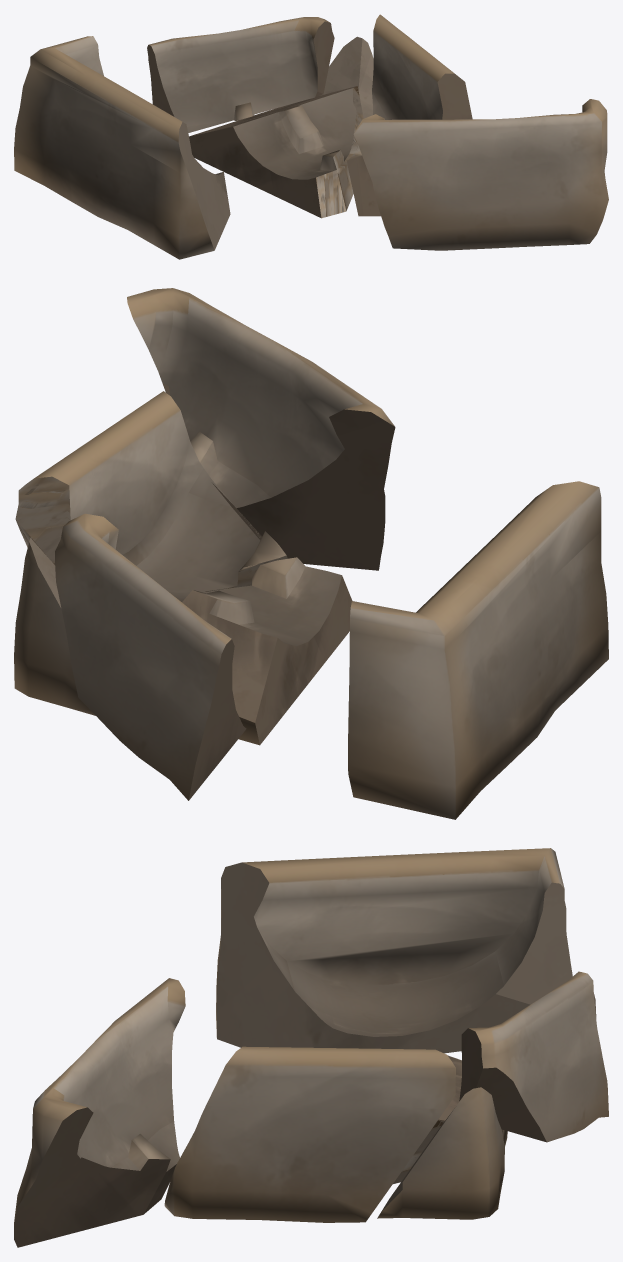
The model's file is SM_SHTRD_Bucket.fbx.
3 renders of one model, top to bottom at view 1: azimuth 30°, elevation 25°; view 2: azimuth 150°, elevation 25°; view 3: azimuth 270°, elevation 25°, orthographic. The views are drawn at different scales.
Parts seen in each view (by area): view 1: SM_Mold.002_cell; view 2: SM_Mold.002_cell; view 3: SM_Mold.002_cell.
Part boxes in pixels (x1,y1,x2,y2): SM_Mold.002_cell: (14, 14, 608, 259); SM_Mold.002_cell: (14, 288, 608, 819); SM_Mold.002_cell: (14, 848, 608, 1247).
Bounding box in the file's own units: 49.02 × 15.76 × 47.39.
